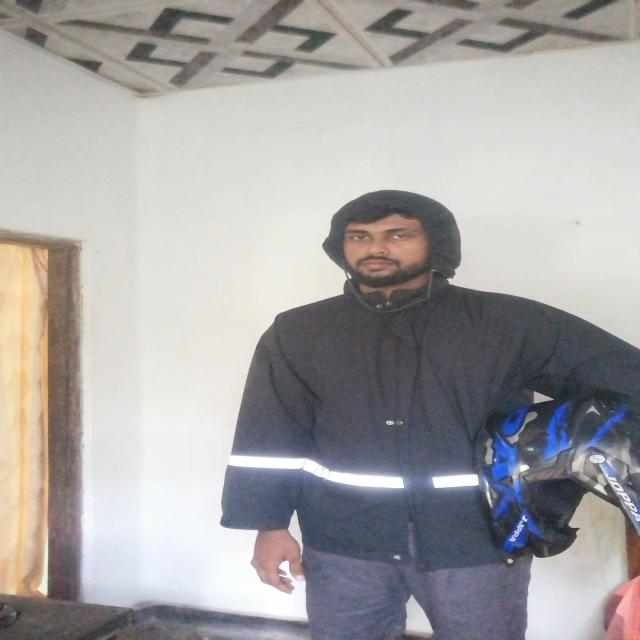Jacket_Wearer: (232, 290, 632, 563)
Person: (249, 178, 640, 626)
